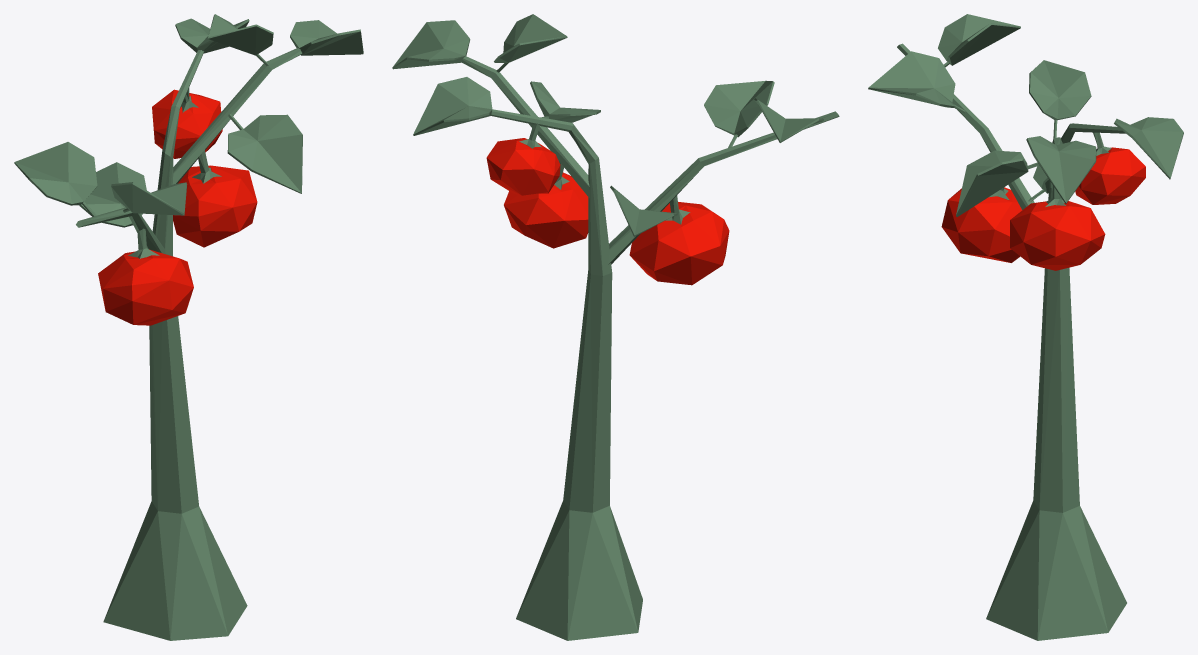
The model's file is tomato.glb.
The picture shows the model from 3 angles, left to right: view 1: azimuth 30°, elevation 25°; view 2: azimuth 150°, elevation 25°; view 3: azimuth 270°, elevation 25°; orthographic projection. The views are drawn at different scales.
Visible parts, largest first — view 1: tomato; view 2: tomato; view 3: tomato.
Boxes of the visible parts, bbox=[...] form: tomato: bbox=[14, 14, 363, 640]; tomato: bbox=[392, 14, 839, 640]; tomato: bbox=[868, 14, 1183, 640].
Bounding box in the file's own units: 0.5977 × 0.864 × 0.4332.
1 material, 1 textured.
